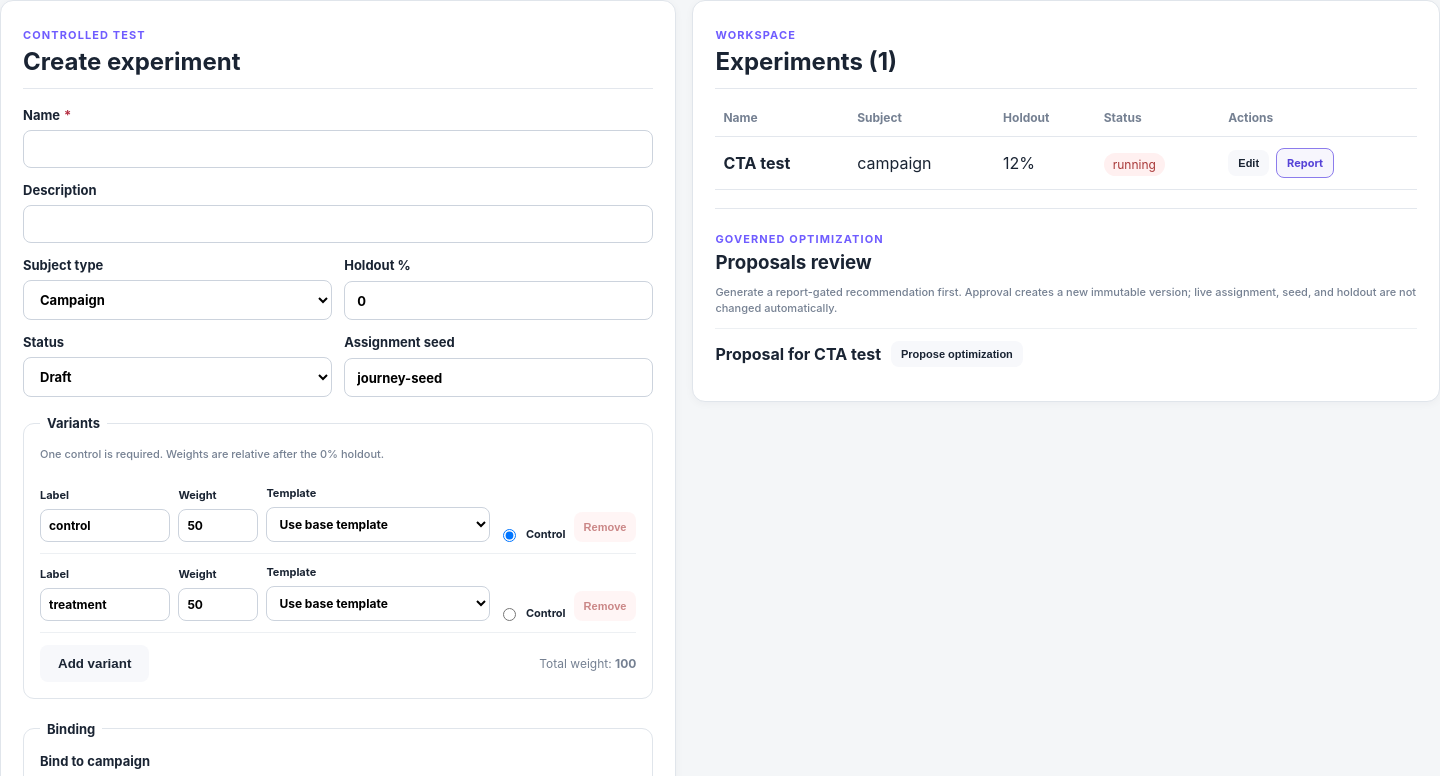
Test: reviews a proposal and approves a new immutable version
Check: the text "CTA test" is shown, box [723,153,790,173]
Click the button "Propose optimization": (957, 354) [891,341,1023,367]
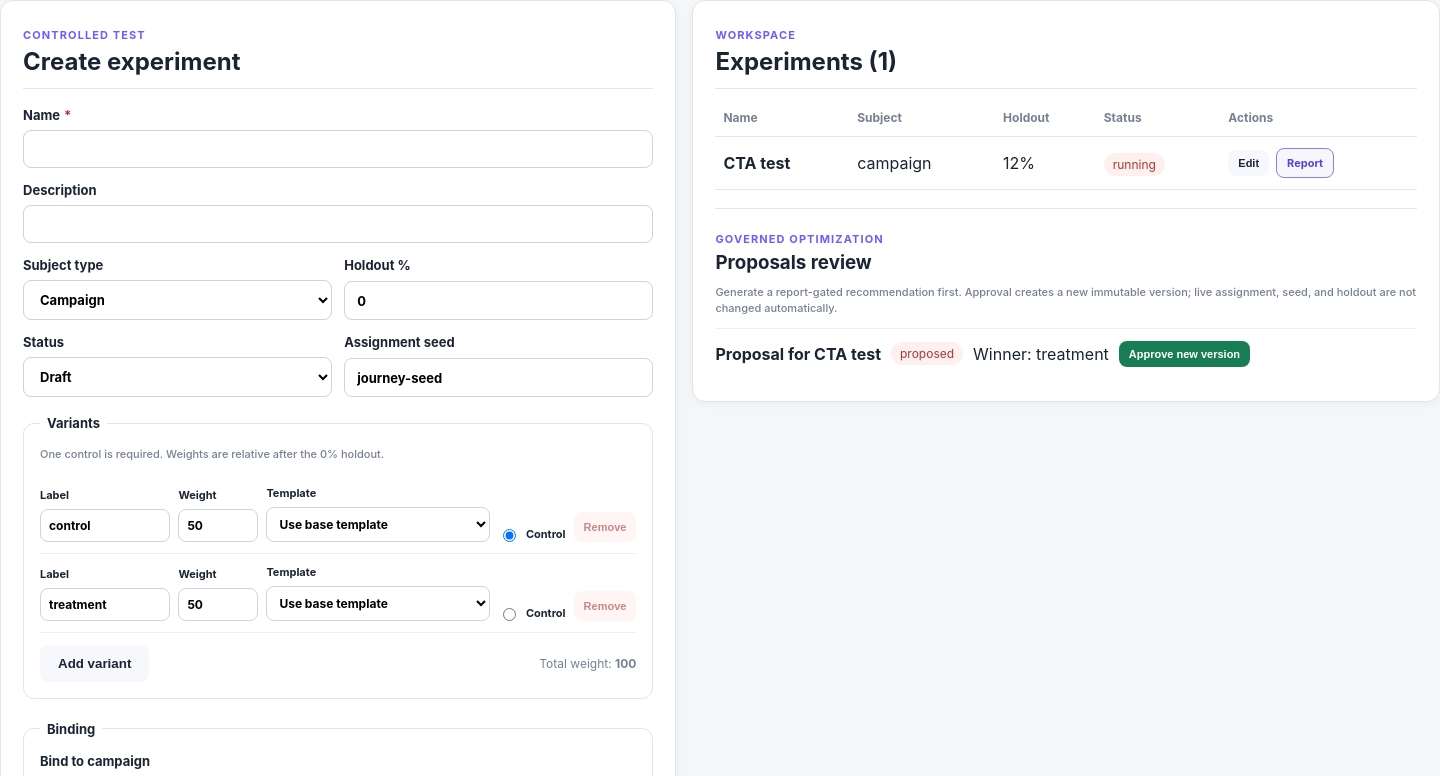
Check: the text "Winner: treatment" is shown, box [973,344,1109,364]
Click the button "Approve new version": (1184, 354) [1119,341,1250,367]
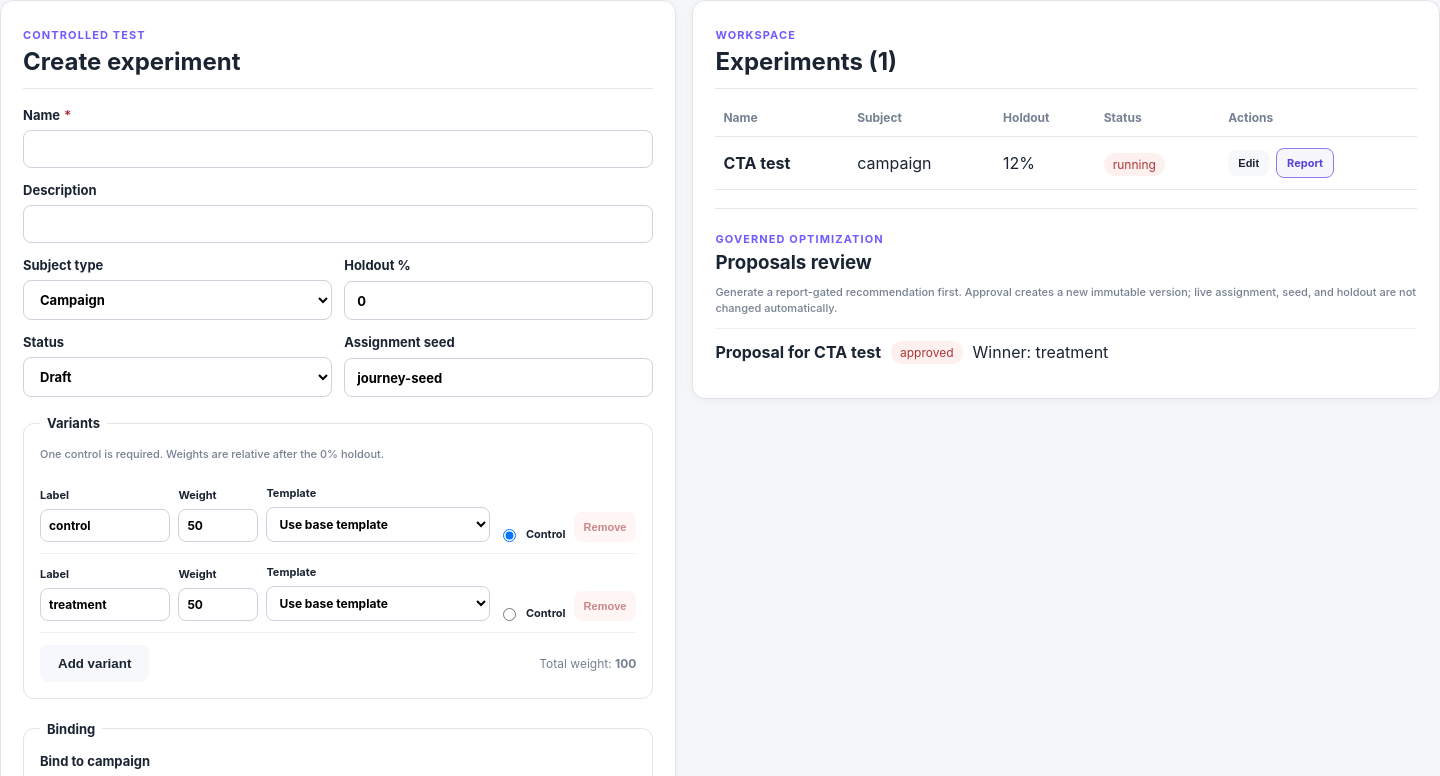
Check: the text "approved" is shown, box [891,341,963,364]
